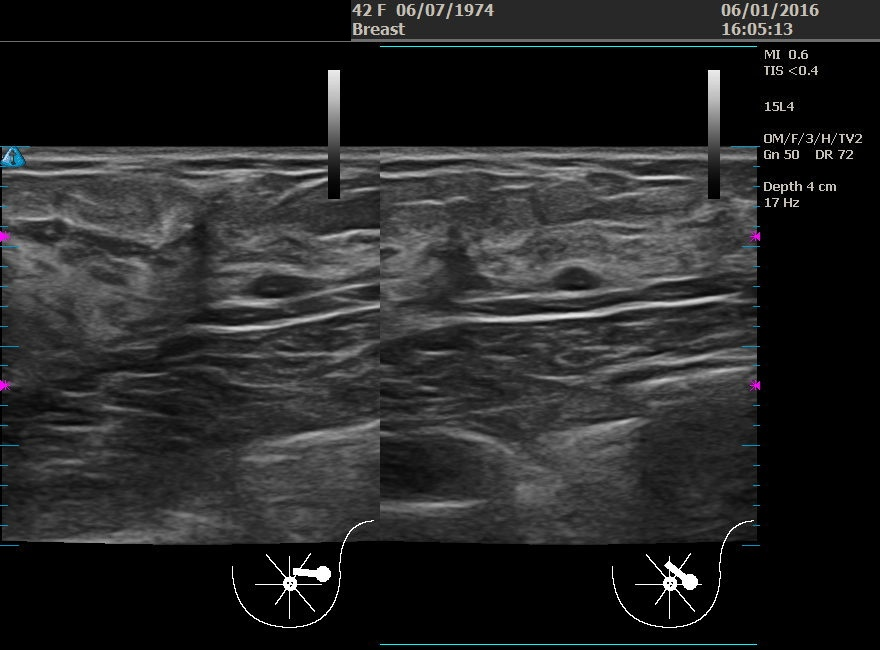BIRADS_2: (161, 223, 362, 423), (465, 190, 665, 390)
